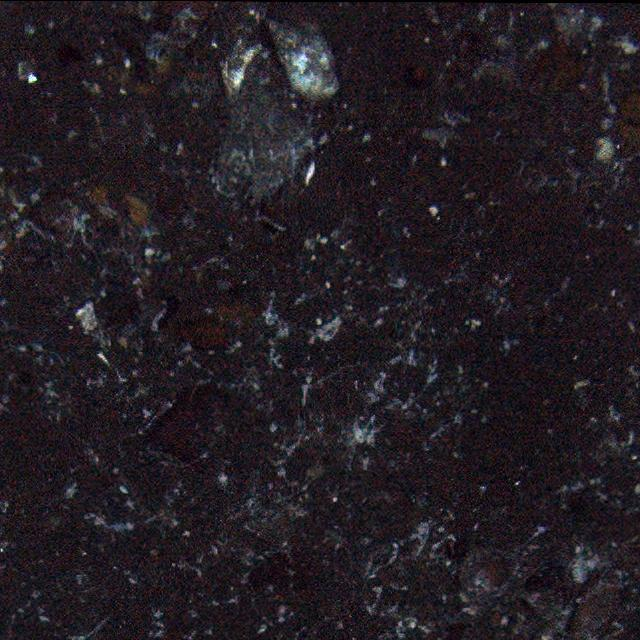whelk: (265, 21, 343, 100)
